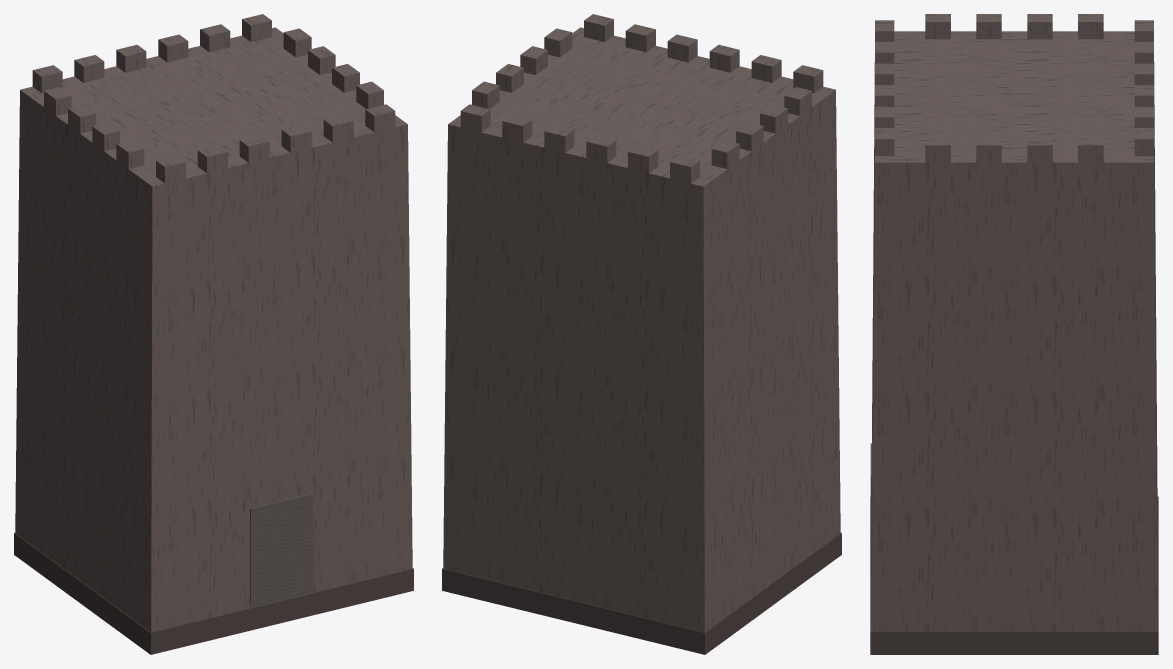
The model's file is SM_Souq_Warehouse_W5D45_Crenel.fbx.
3 renders of one model, left to right at view 1: azimuth 30°, elevation 25°; view 2: azimuth 150°, elevation 25°; view 3: azimuth 270°, elevation 25°, orthographic. The views are drawn at different scales.
Parts seen in each view (by area): view 1: SM_Souq_Warehouse_W5D45_Crenel; view 2: SM_Souq_Warehouse_W5D45_Crenel; view 3: SM_Souq_Warehouse_W5D45_Crenel.
Boxes of the visible parts, left/top/right/bottom form: SM_Souq_Warehouse_W5D45_Crenel: left=14, top=14, right=413, bottom=654; SM_Souq_Warehouse_W5D45_Crenel: left=442, top=14, right=841, bottom=654; SM_Souq_Warehouse_W5D45_Crenel: left=870, top=14, right=1158, bottom=654.
Size of the model in its own units: 502 by 880 by 452.
Materials: 3 (3 with a texture image).
